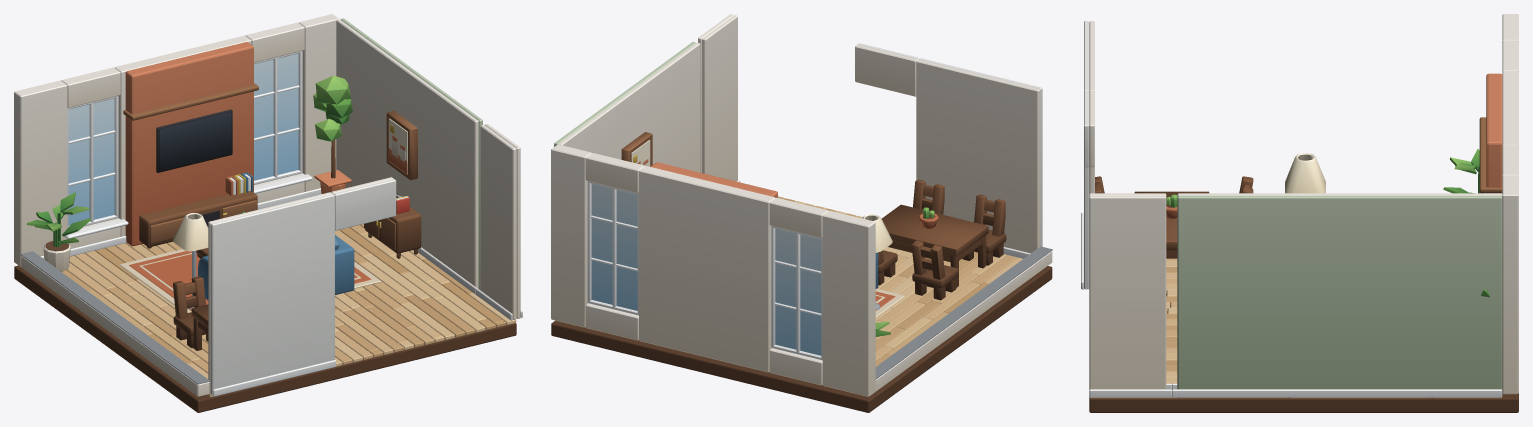
The model's file is house-living.glb.
3 views of the same model, side by side, from view 1: azimuth 30°, elevation 25°; view 2: azimuth 150°, elevation 25°; view 3: azimuth 270°, elevation 25° (orthographic). The views are drawn at different scales.
Visible parts, largest first — view 1: floor-living, wall-living-street, wall-living-kitchen, wall-living-bedroom, chimney_breast, glass-living-street, wall-living-corridor, wall-living-west, tv_screen, media_unit, rug_mesh, plant_tree_mesh (+10 smaller); view 2: wall-living-street, wall-living-kitchen, floor-living, glass-living-street, wall-living-bedroom, wall-living-corridor, wall-living-west, dining_table, lintel-living-kitchen-0, chair_nw, chair_sw, chimney_breast (+5 smaller); view 3: wall-living-bedroom, wall-living-corridor, floor-living, wall-living-street, chimney_breast, wall-living-kitchen, floor_lamp, lintel-living-kitchen-0, dining_table, plant_leafy_mesh.
Part boxes in pixels (x1,y1,x2,y2): floor-living: (14,224,516,412); wall-living-street: (14,14,338,266); wall-living-kitchen: (208,192,335,396); wall-living-bedroom: (336,18,482,294); chimney_breast: (123,42,258,246); glass-living-street: (68,53,298,225); wall-living-corridor: (476,123,522,320); wall-living-west: (20,251,210,396); tv_screen: (156,109,232,172); media_unit: (139,191,257,248); rug_mesh: (119,249,381,312); plant_tree_mesh: (313,75,352,193); wall-living-street: (551,144,875,396); wall-living-kitchen: (916,58,1042,258); floor-living: (551,196,1052,412); glass-living-street: (591,184,821,355); wall-living-bedroom: (554,41,700,172); wall-living-corridor: (698,14,740,182); wall-living-west: (875,246,1052,391); dining_table: (882,204,988,287); lintel-living-kitchen-0: (855,43,919,96); chair_nw: (911,240,958,300); chair_sw: (962,194,1006,265); chimney_breast: (650,162,777,197); wall-living-bedroom: (1172,193,1502,397); wall-living-corridor: (1089,193,1171,397); floor-living: (1089,258,1518,412); wall-living-street: (1502,14,1518,394); chimney_breast: (1479,73,1502,193); wall-living-kitchen: (1081,21,1094,289); floor_lamp: (1285,153,1325,193); lintel-living-kitchen-0: (1084,90,1094,167); dining_table: (1134,191,1209,258); plant_leafy_mesh: (1443,149,1480,193).
Bounding box in the file's own units: 8.06 × 4.38 × 7.95.
1 material, 1 textured.
